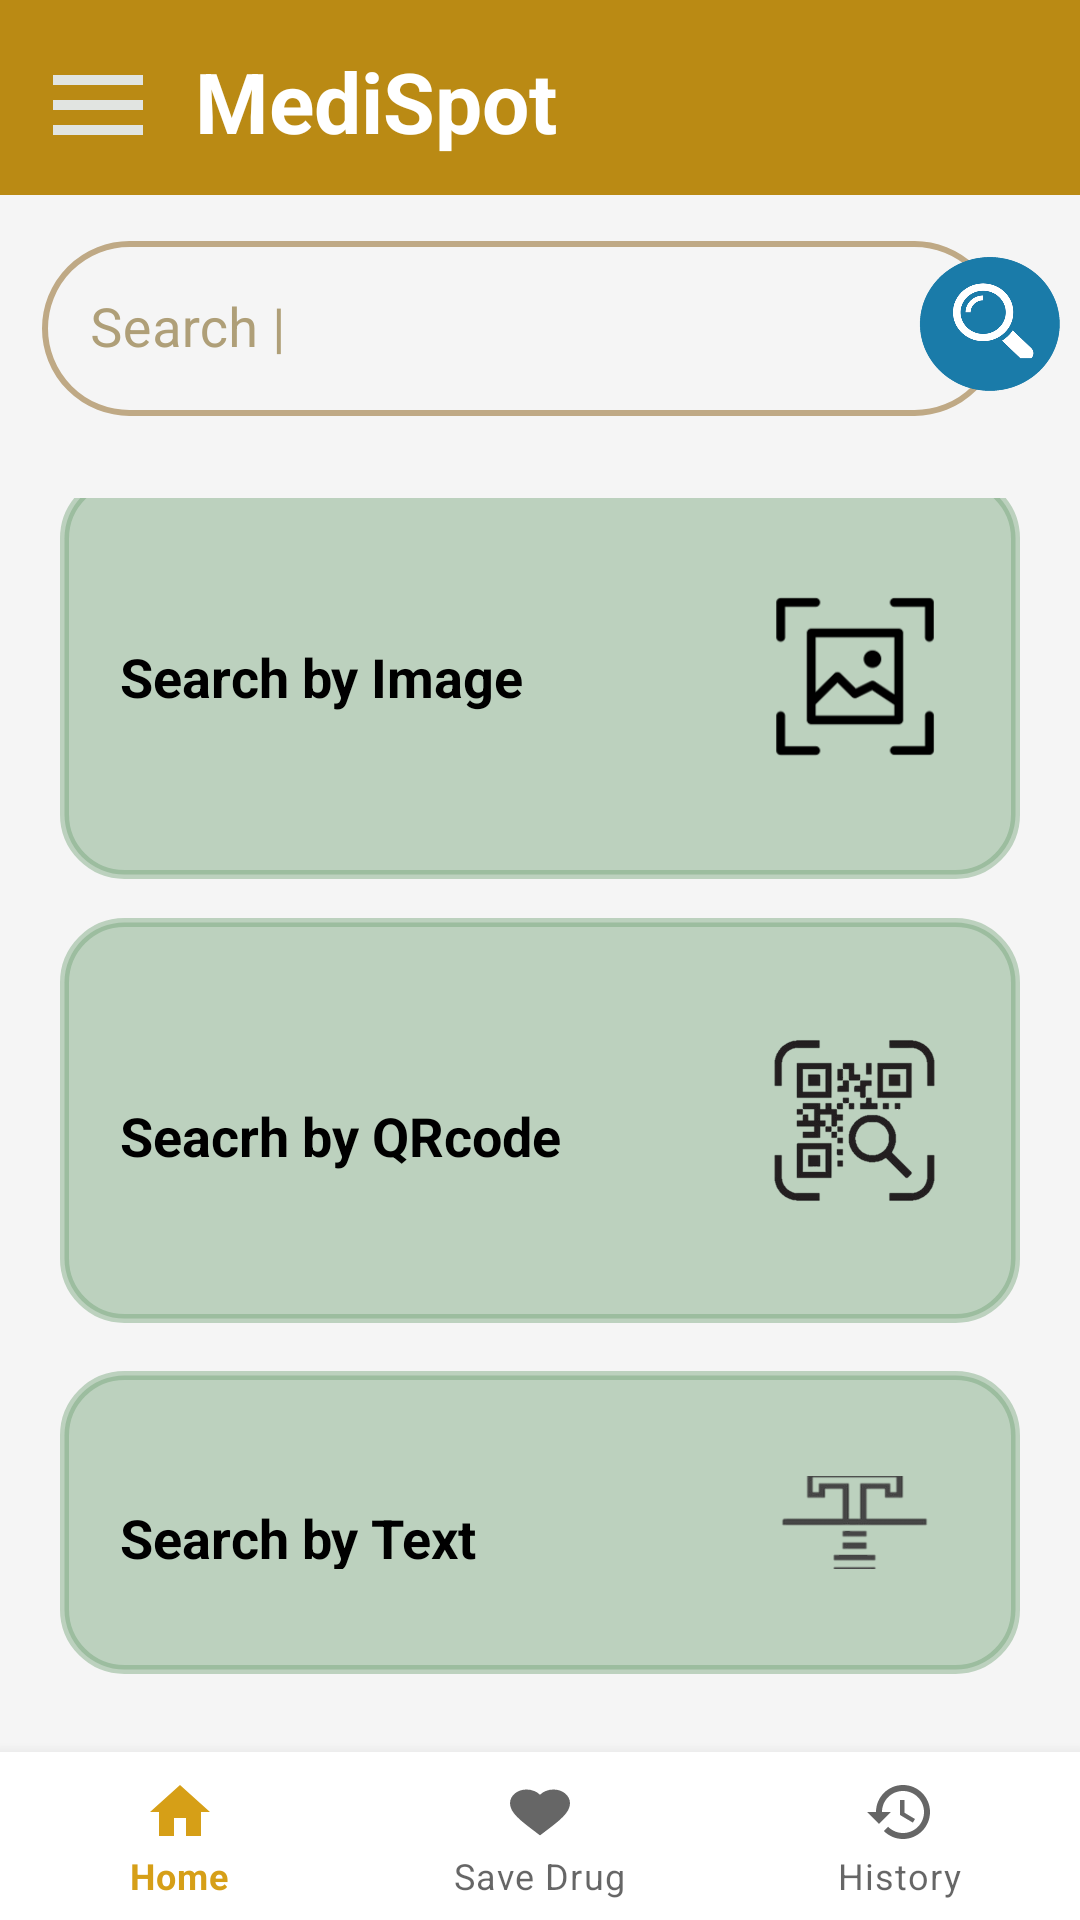

Named icons in this screenshot (1080 x 1920) and their bounding boxes, (x1, y1, x2, y2):
menu: (53, 75, 143, 135)
qrcode scanner: (774, 1040, 935, 1201)
recognition: (776, 597, 934, 756)
text recognition: (782, 1476, 927, 1569)
